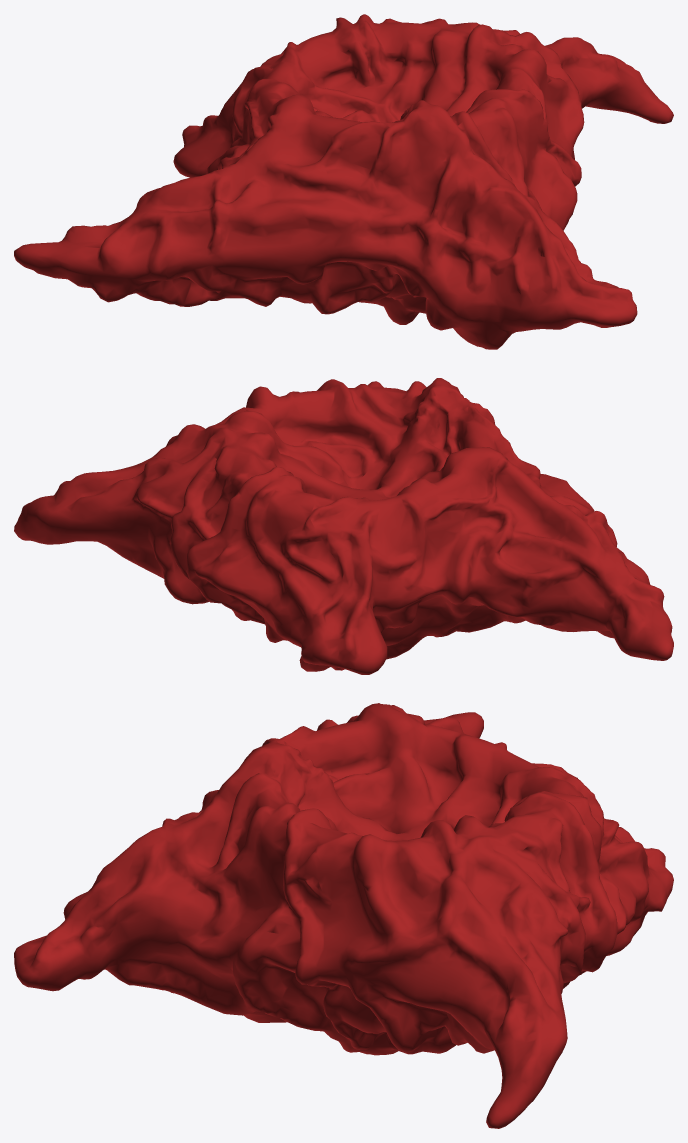
The model's file is RedEyeSocket.glb.
3 views of the same model, one above another, from view 1: azimuth 30°, elevation 25°; view 2: azimuth 150°, elevation 25°; view 3: azimuth 270°, elevation 25° (orthographic). The views are drawn at different scales.
Visible parts, largest first — view 1: Eye_FleshMound; view 2: Eye_FleshMound; view 3: Eye_FleshMound.
Boxes of the visible parts, x1,y1,x2,y2 form: Eye_FleshMound: (14, 14, 673, 349); Eye_FleshMound: (14, 378, 673, 674); Eye_FleshMound: (14, 703, 673, 1128).
Size of the model in its own units: 1.38 by 0.5084 by 1.03.
